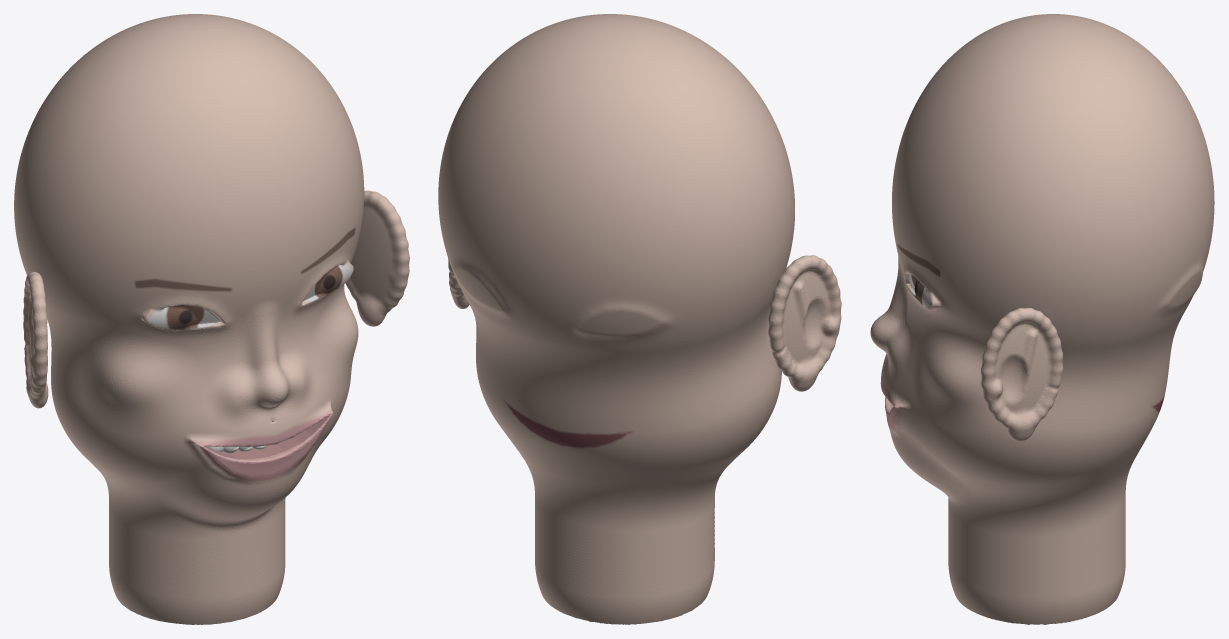
File: karma_face_stage1_M_smile_EXPERIMENT.glb
The picture shows the model from 3 angles, left to right: view 1: azimuth 30°, elevation 25°; view 2: azimuth 150°, elevation 25°; view 3: azimuth 270°, elevation 25°; orthographic projection.
Parts seen in each view (by area): view 1: head; view 2: head; view 3: head.
Part boxes in pixels (x1,y1,x2,y2): head: (14,14,409,624); head: (438,14,841,624); head: (870,14,1214,624).
Bounding box in the file's own units: 2.7 × 3.83 × 2.13.
